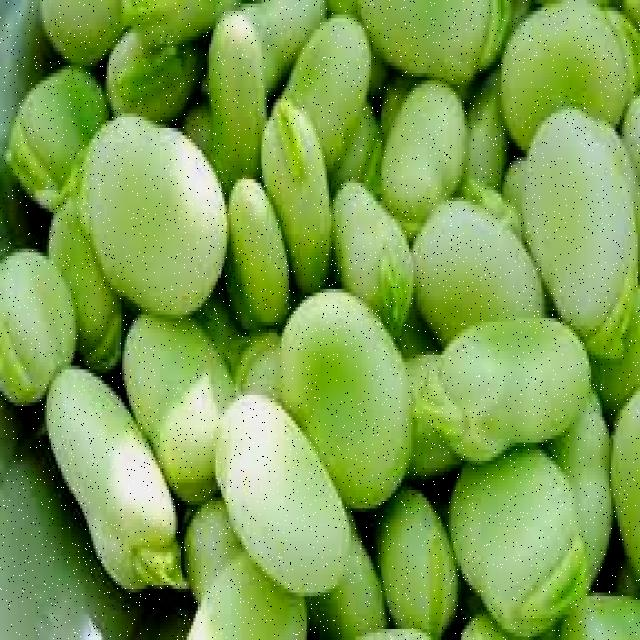Broad Beans: (0, 0, 640, 640), (31, 113, 232, 377), (502, 111, 637, 367), (271, 291, 413, 514), (448, 446, 585, 622)
